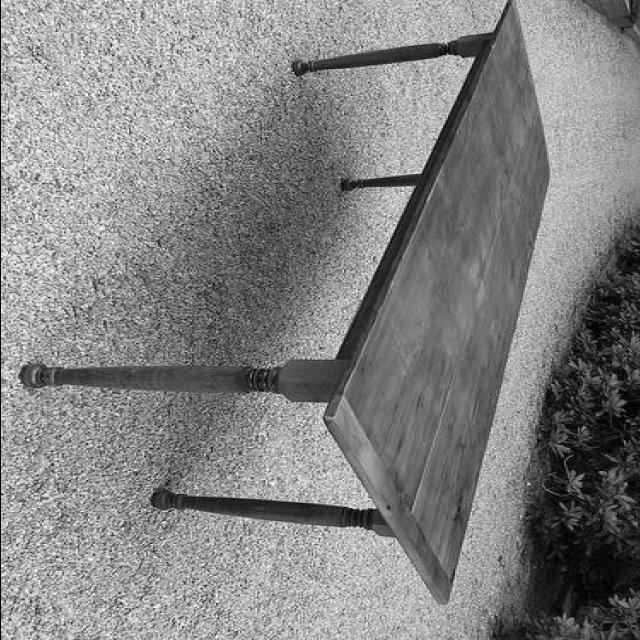table: (22, 0, 550, 603)
